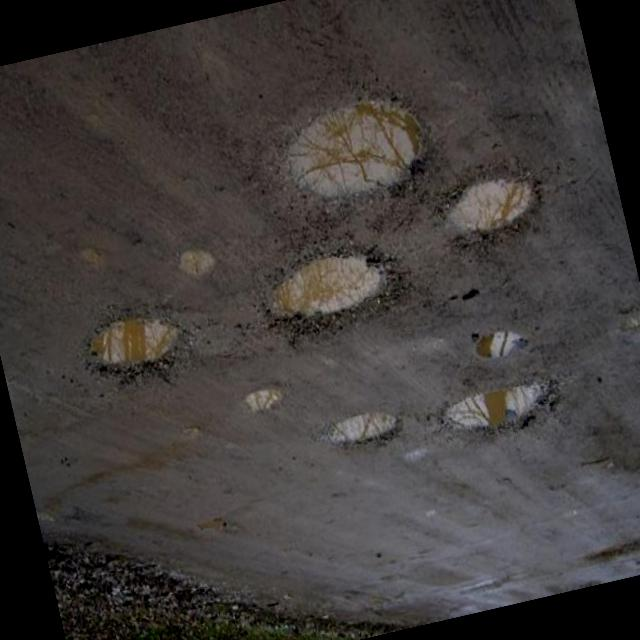pothole: (264, 84, 442, 225), (255, 240, 412, 348), (434, 163, 557, 254), (80, 302, 196, 391), (437, 371, 562, 448), (318, 405, 411, 465), (466, 316, 534, 368), (240, 377, 294, 421)
